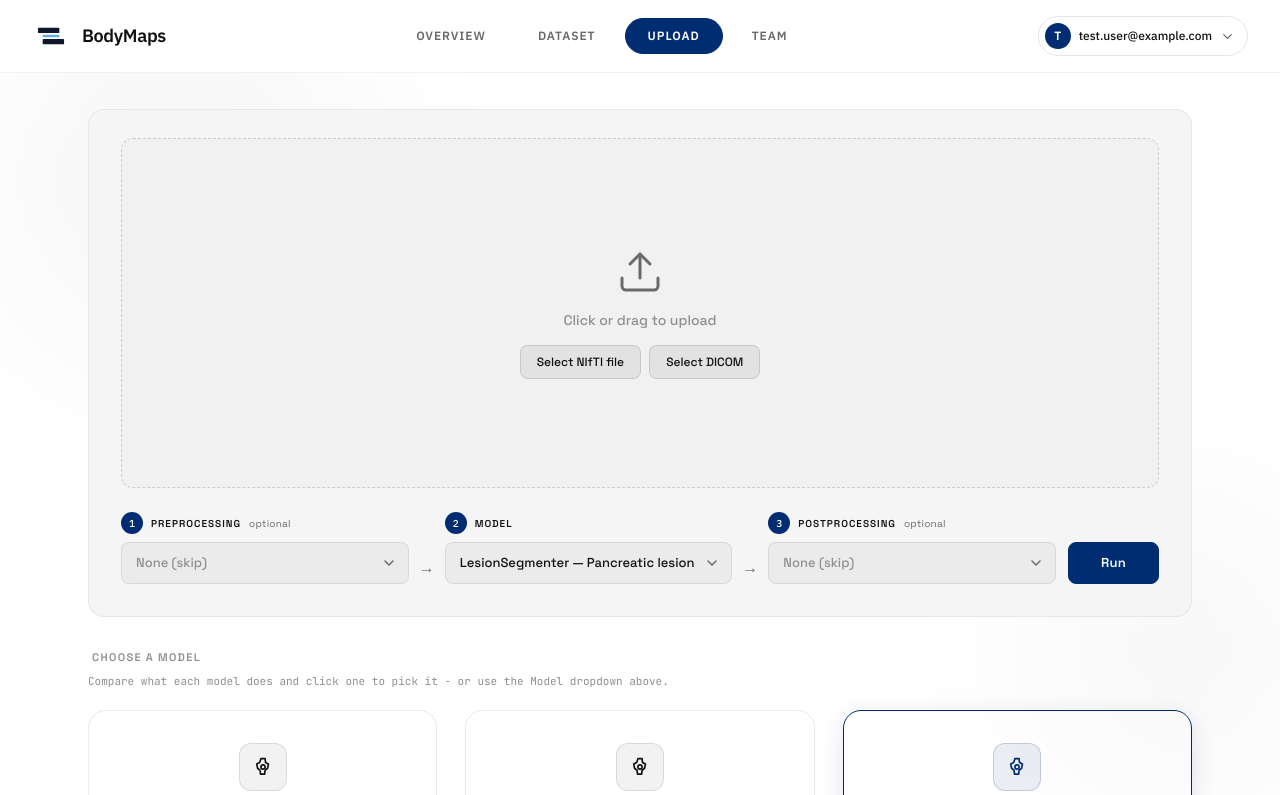
Test: model access › keeps model locks in place and shows the server error for an invalid admin coupon
Click the button "LesionSegmenter — Pancreatic lesion": [589, 563] box left=445, top=542, right=732, bottom=584
(page scrolled)
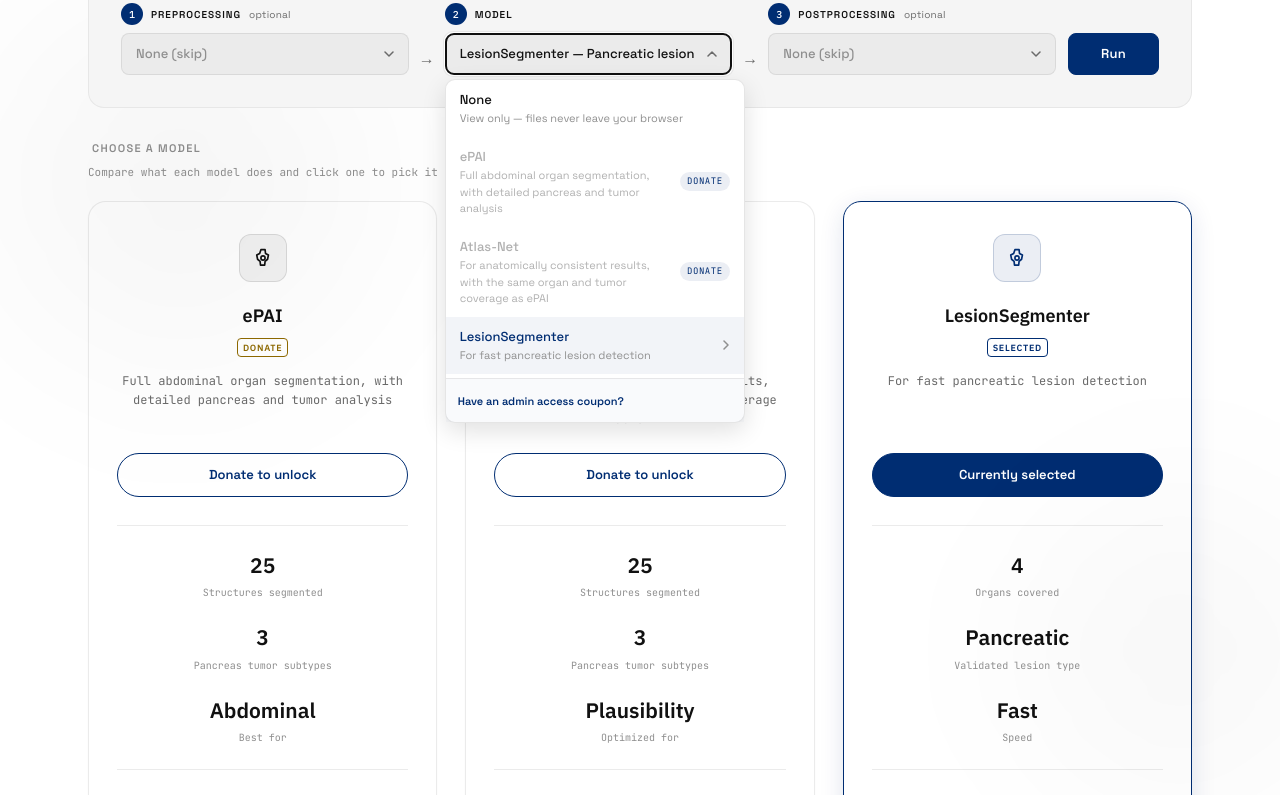
Click the button "Have an admin access coupon?": [595, 400] box left=458, top=394, right=732, bottom=408
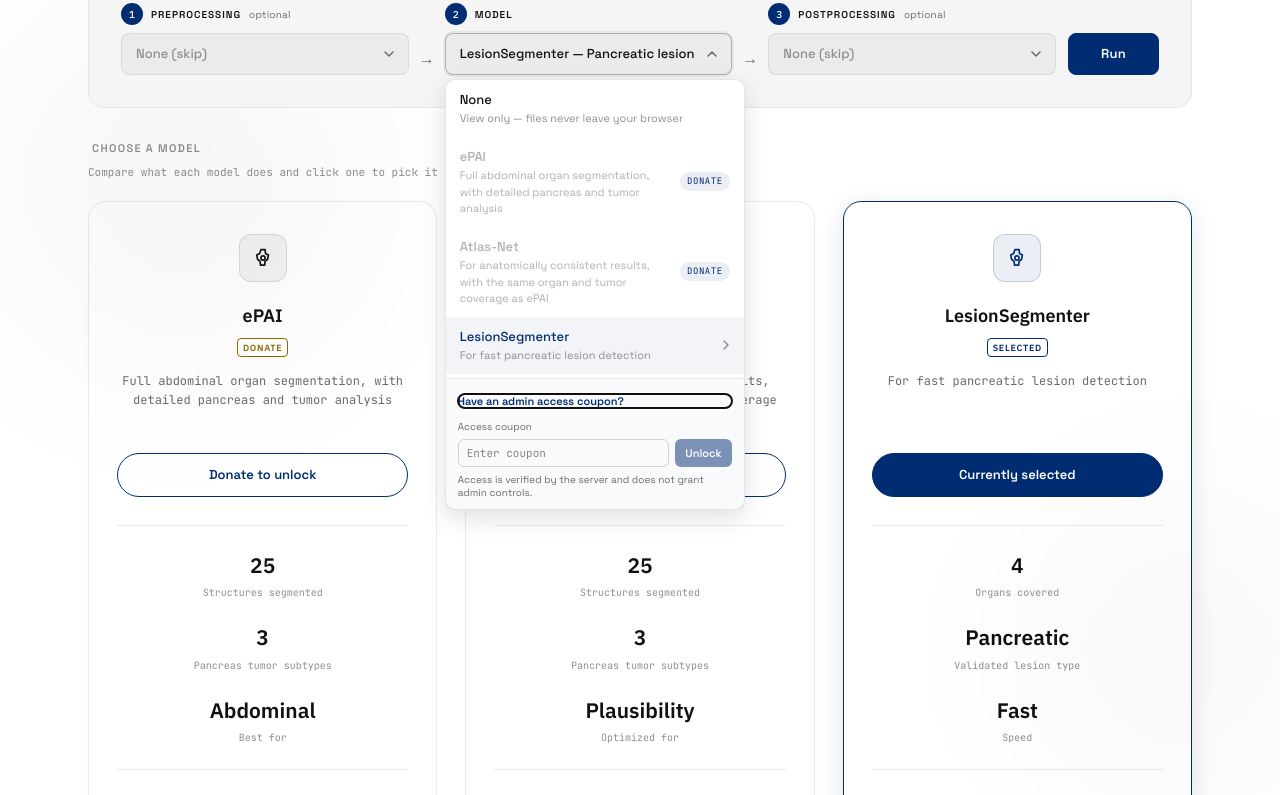
In the password field labelled "Access coupon": [564, 452] box left=458, top=438, right=669, bottom=466, type "wrong-code"
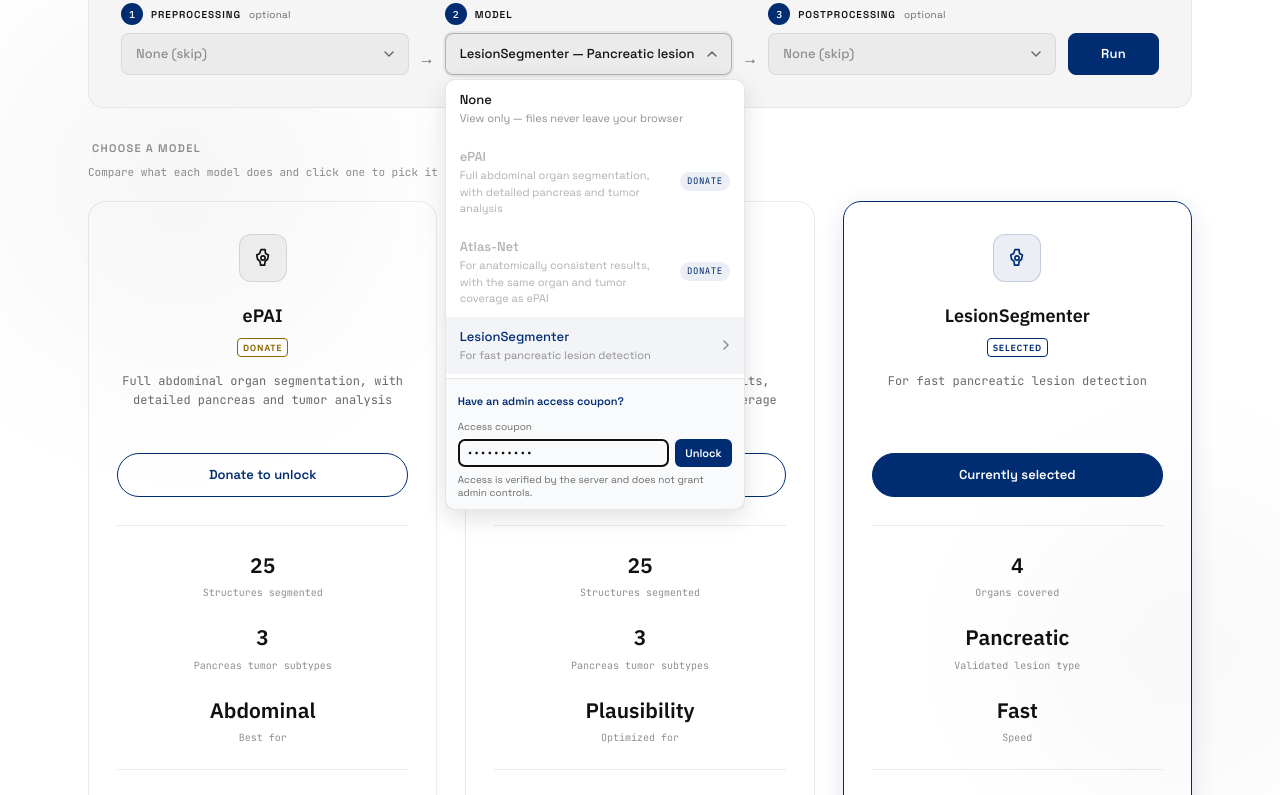
Click the button "Unlock": [704, 452] box left=675, top=438, right=732, bottom=466
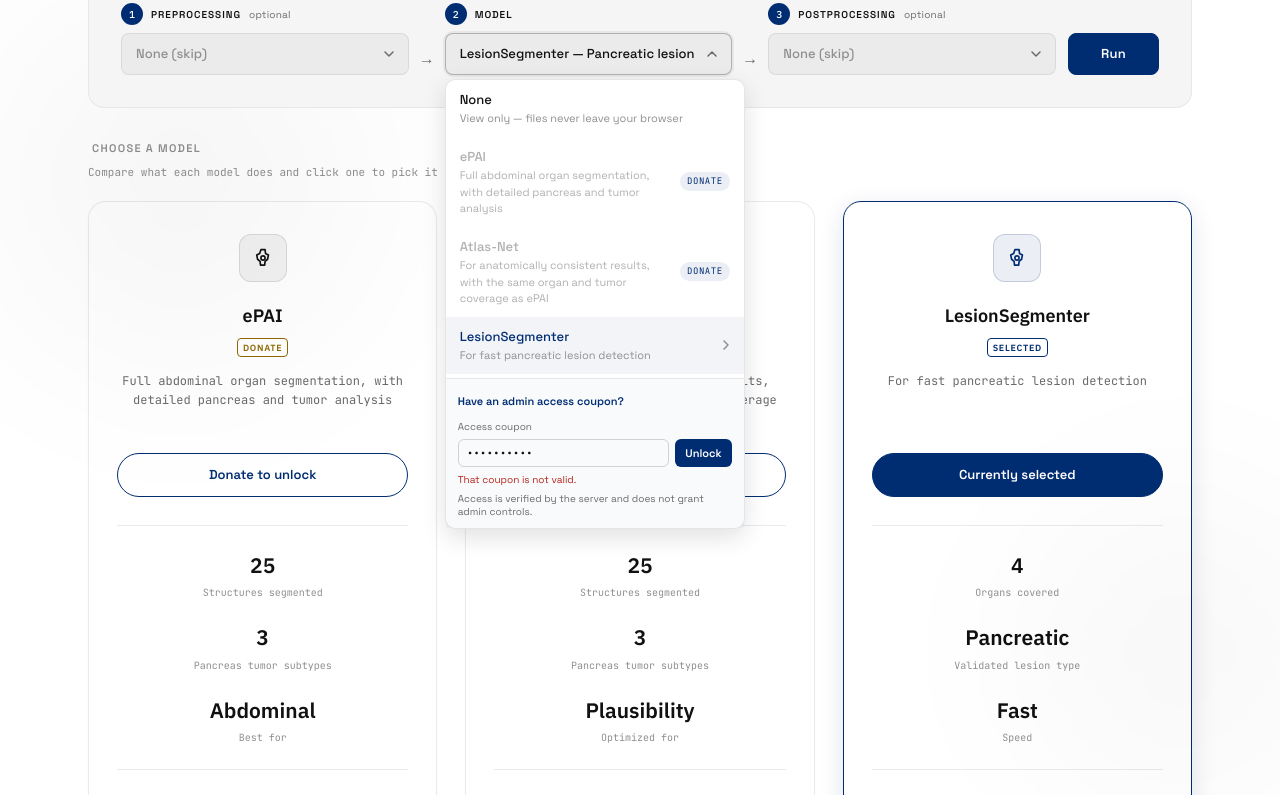
Expected: the text "ePAI" below "Preprocessing" is shown, left=460, top=148, right=486, bottom=164
Expected: the 1st text "Donate" is shown, left=680, top=172, right=730, bottom=191
Expected: the message reads "That coupon is not valid.", left=458, top=472, right=576, bottom=486
